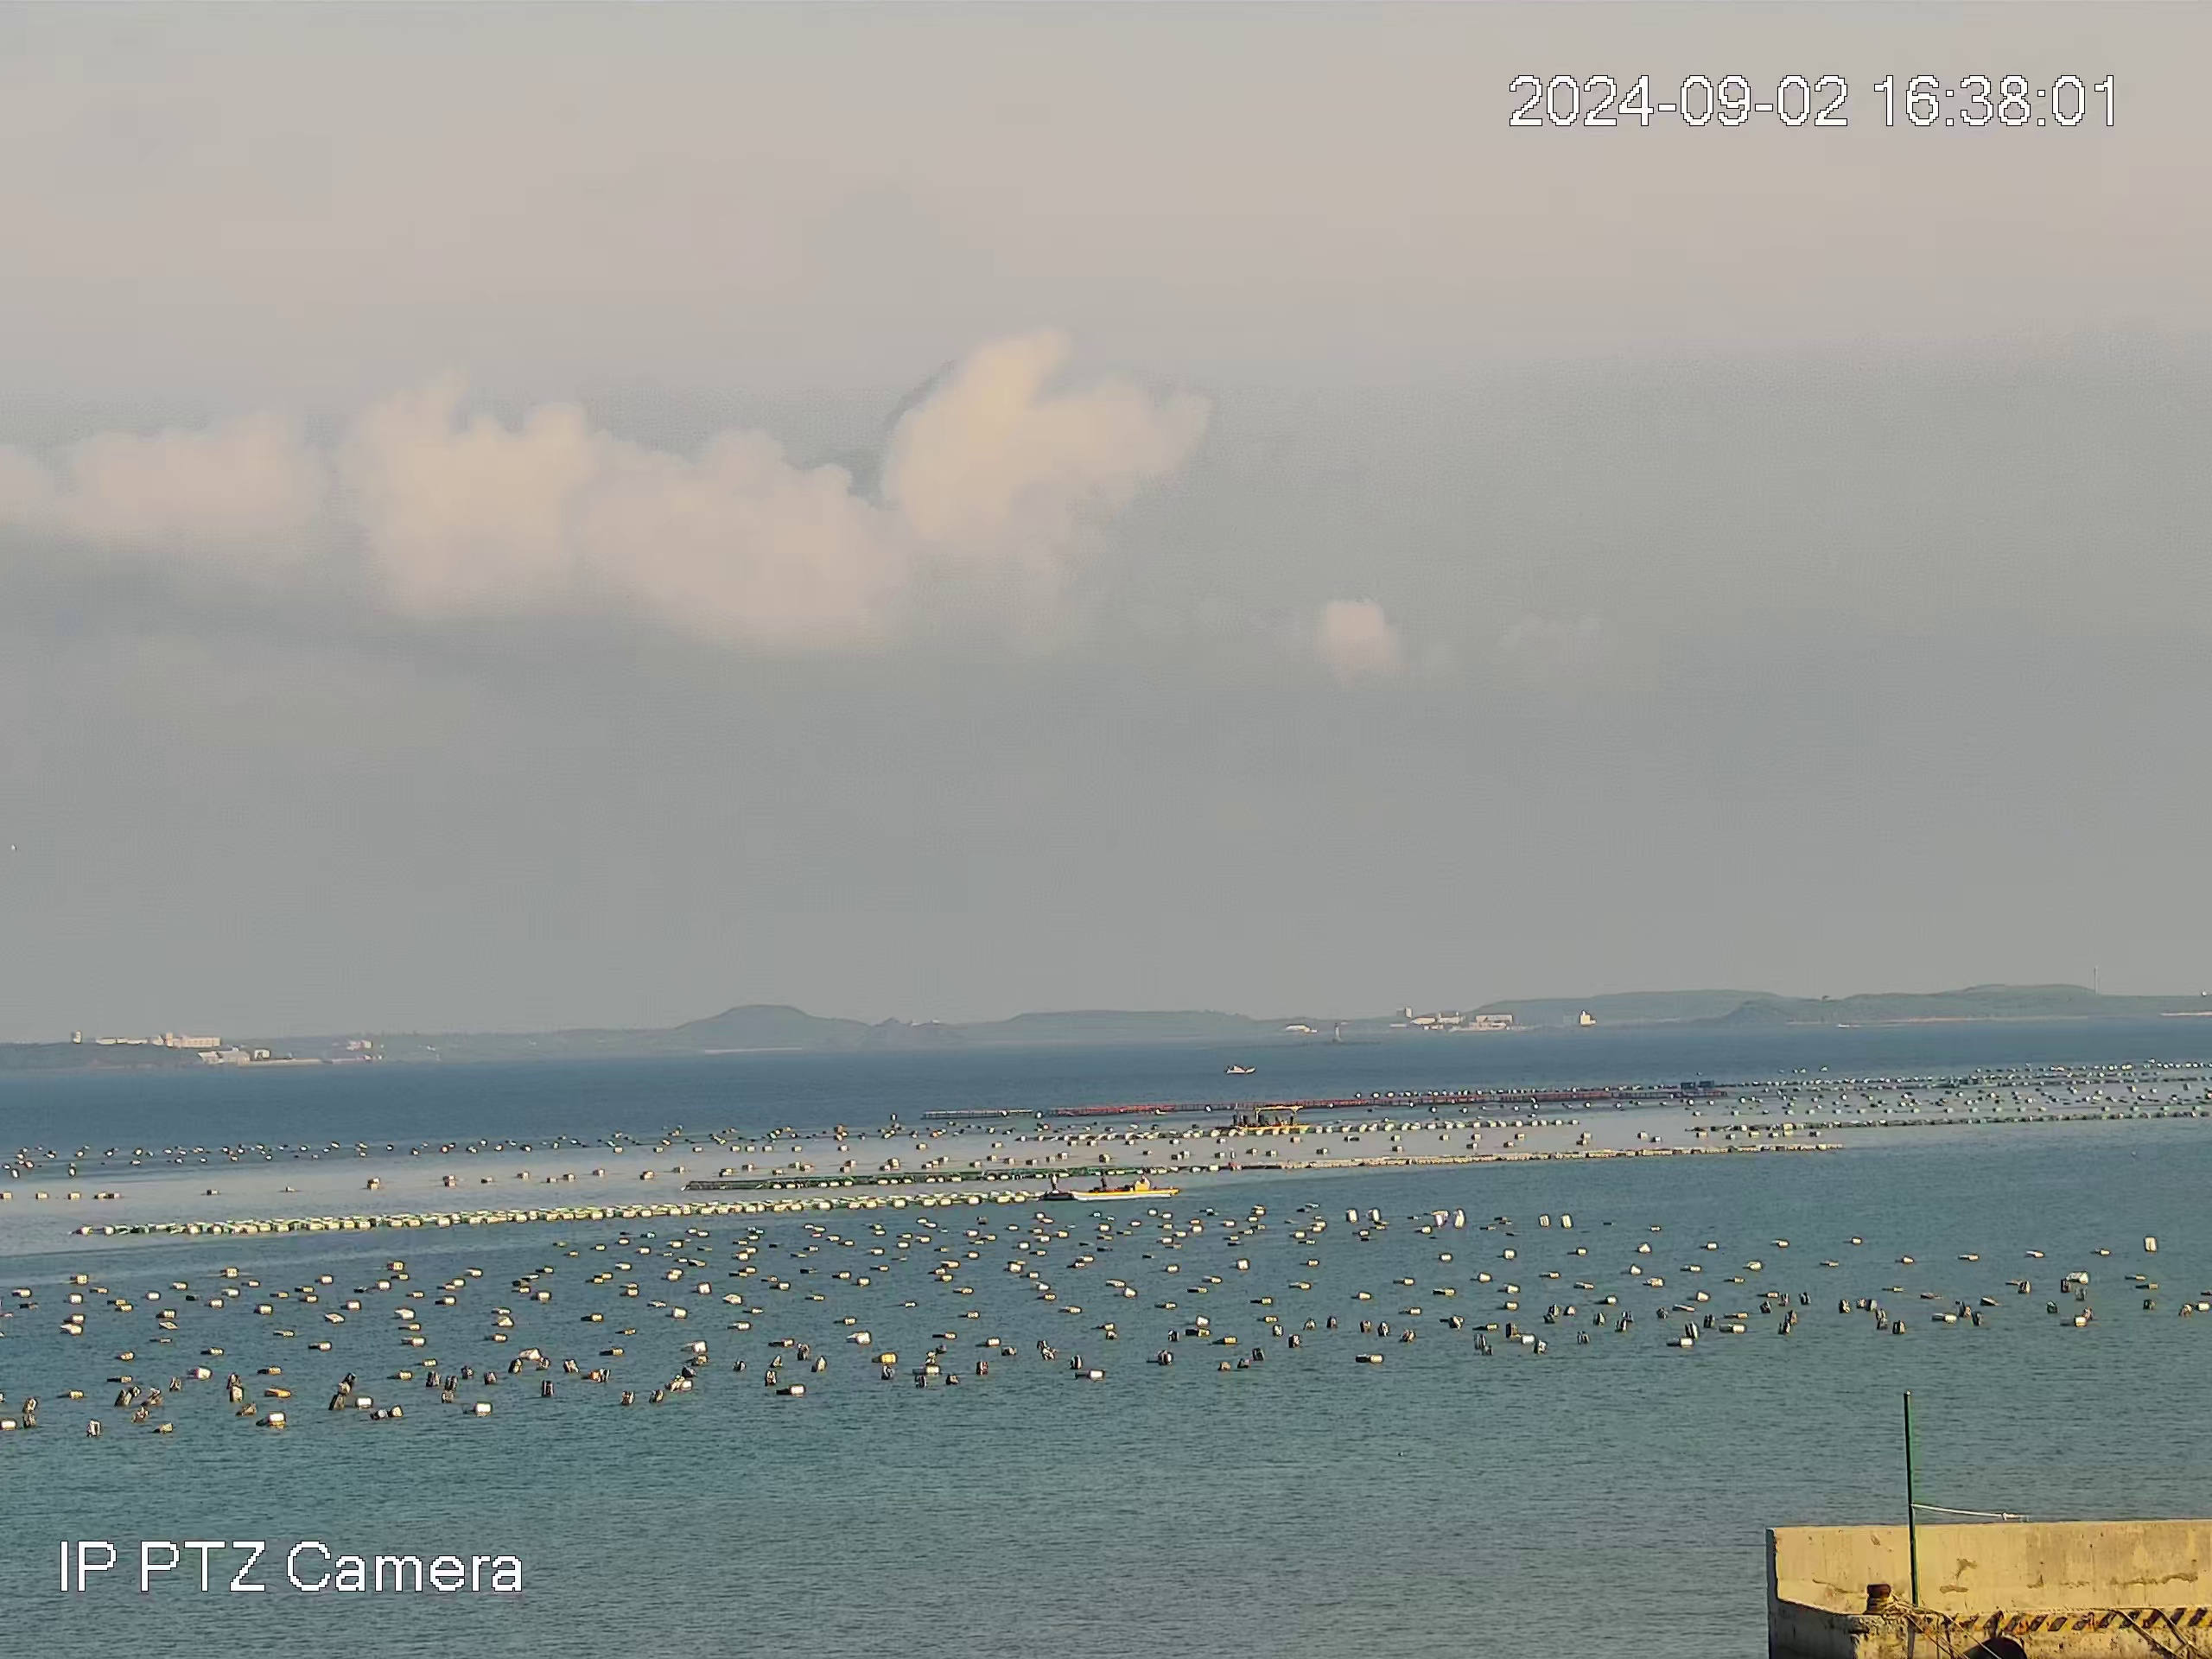boat: (1038, 1171, 1181, 1202), (1230, 1103, 1310, 1131), (1223, 1063, 1256, 1075)
